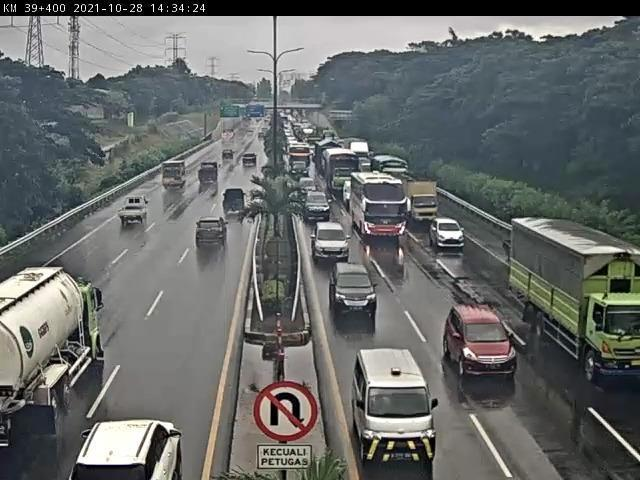bus: (350, 169, 409, 241)
car: (353, 347, 443, 464), (443, 302, 519, 381), (330, 261, 381, 318), (313, 220, 354, 263), (431, 214, 468, 253), (195, 215, 232, 248), (119, 197, 152, 227), (304, 190, 332, 225), (222, 186, 249, 216), (298, 177, 318, 199), (343, 180, 356, 203)
truck: (510, 207, 640, 377), (1, 262, 105, 447), (326, 147, 362, 197), (408, 180, 443, 224), (162, 160, 189, 191), (200, 161, 223, 186)
